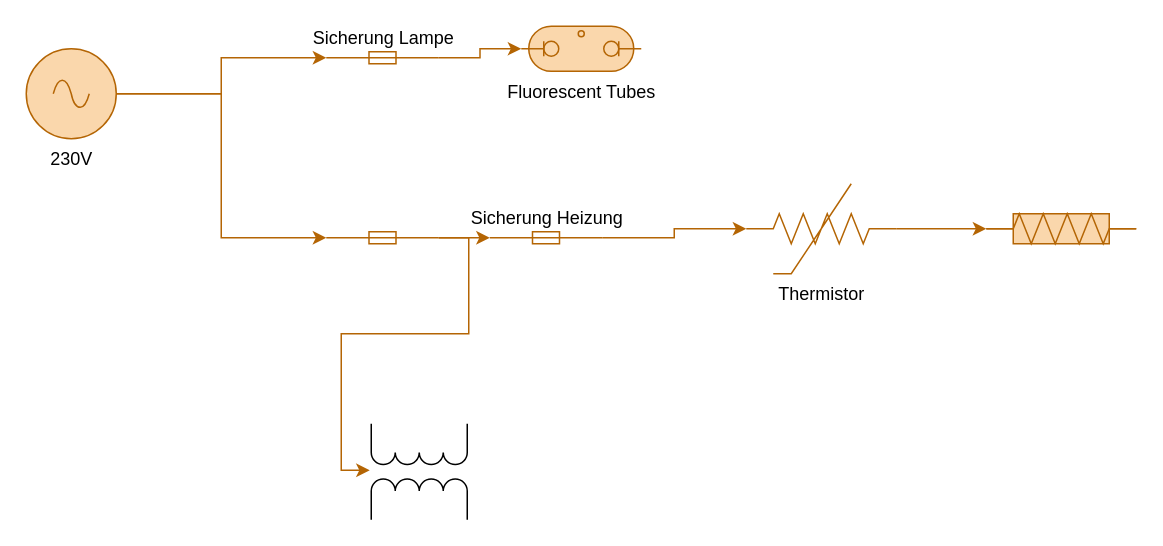
The diagram is 1163 pixels wide and 546 high, and some of its shapes have lost their labels. Each missing label, with the centre of its shape:
"Heating Element" belongs at point (1060, 228).
"Sicherung Cotapi" belongs at point (382, 228).
